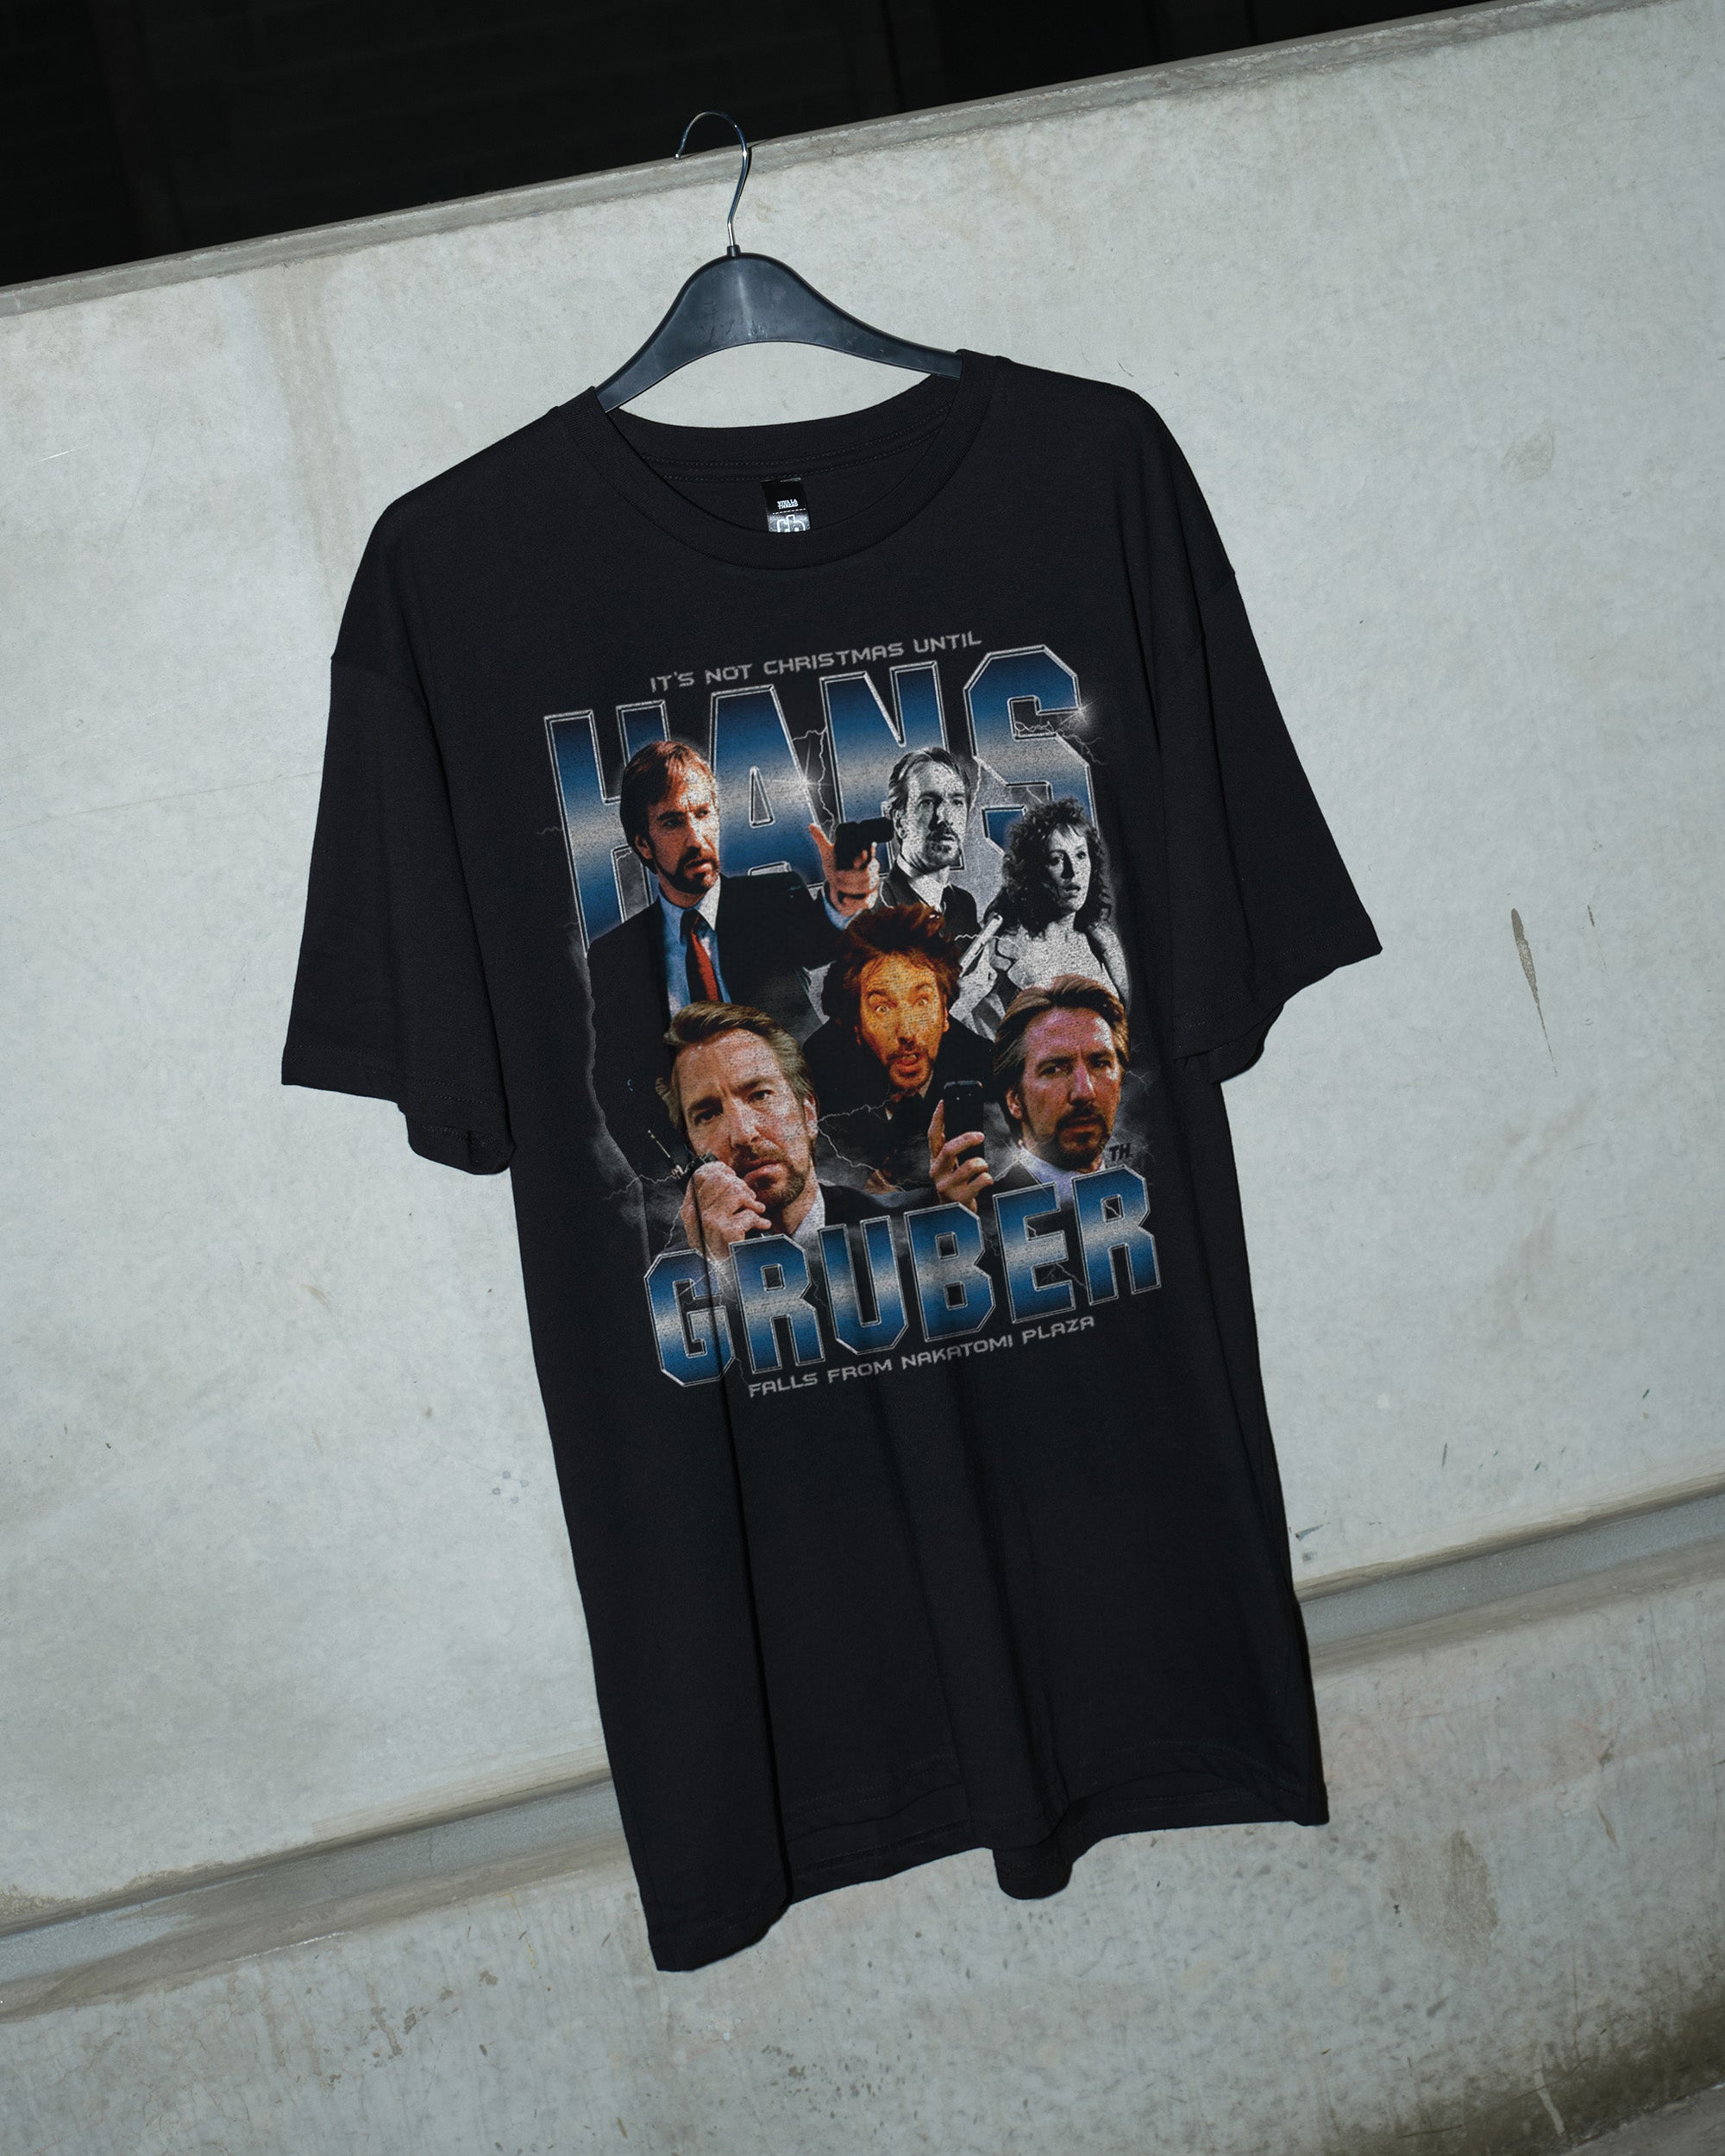design: (532, 612, 1176, 1406)
